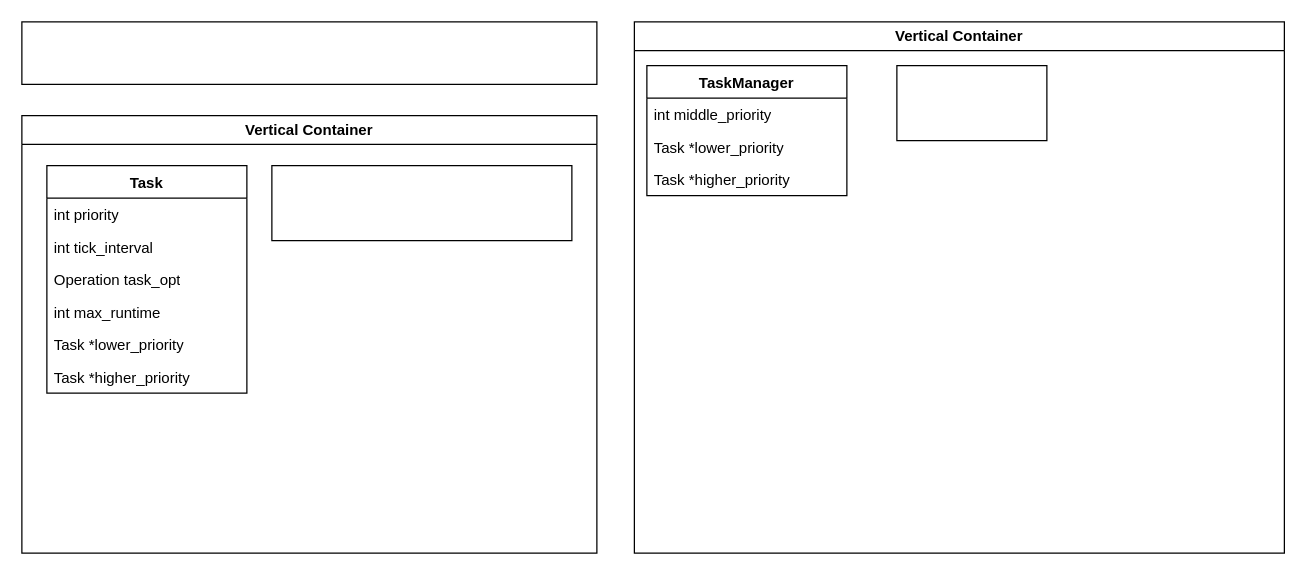
Some shapes in this 1306 by 575 pixel diagram are drawn without their labels. Each missing label, with the centre of its shape:
"Task *generate_task(const int priority, const int tick_interval, const Operation" goes at (421,202).
"«interface» void Operation(TaskManager task_manager)" goes at (309,52).
